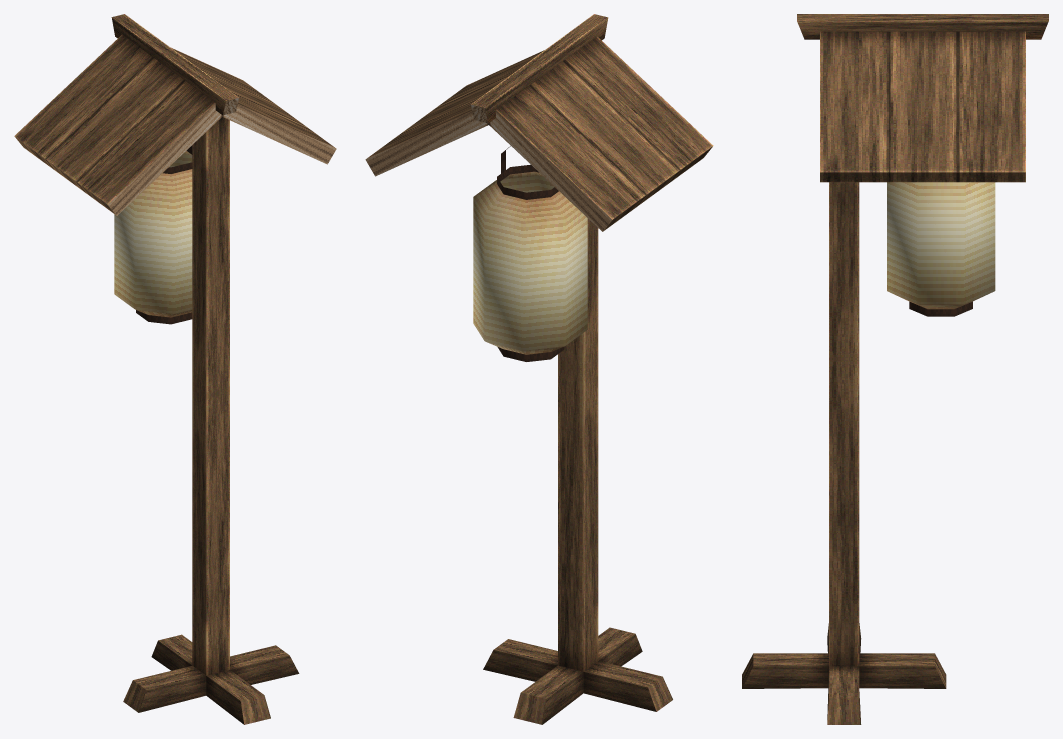
File: street_lantern.glb
The picture shows the model from 3 angles, left to right: view 1: azimuth 30°, elevation 25°; view 2: azimuth 150°, elevation 25°; view 3: azimuth 270°, elevation 25°; orthographic projection. The views are drawn at different scales.
Parts seen in each view (by area): view 1: stand, lantern; view 2: stand, lantern; view 3: stand, lantern.
Part boxes in pixels (box(x1,y1,x2,y2)): stand: box(14, 14, 336, 724); lantern: box(114, 145, 192, 324); stand: box(365, 14, 713, 724); lantern: box(473, 146, 587, 361); stand: box(742, 14, 1048, 724); lantern: box(887, 182, 995, 316).
Size of the model in its own units: 1.2 by 3.03 by 1.27.
2 materials, 2 textured.
